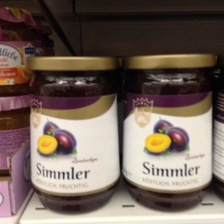jam: (26, 55, 122, 214), (122, 53, 216, 212)
